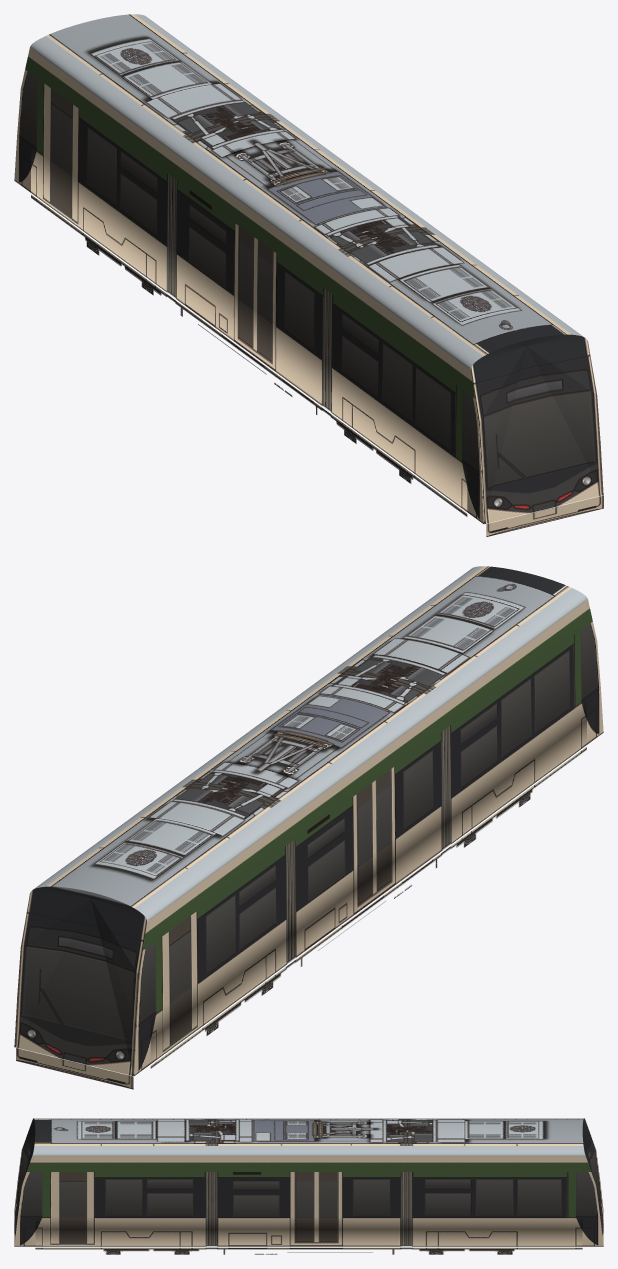
The model's file is car1.glb.
3 views of the same model, one above another, from view 1: azimuth 30°, elevation 25°; view 2: azimuth 150°, elevation 25°; view 3: azimuth 270°, elevation 25° (orthographic). The views are drawn at different scales.
Parts seen in each view (by area): view 1: hankai-1001-car1; view 2: hankai-1001-car1; view 3: hankai-1001-car1.
Part boxes in pixels (x1,y1,x2,y2): hankai-1001-car1: (14,14,603,536); hankai-1001-car1: (14,566,603,1089); hankai-1001-car1: (14,1118,603,1254).
Bounding box in the file's own units: 2.4 × 3.27 × 16.33.
Materials: 8 (7 with a texture image).
